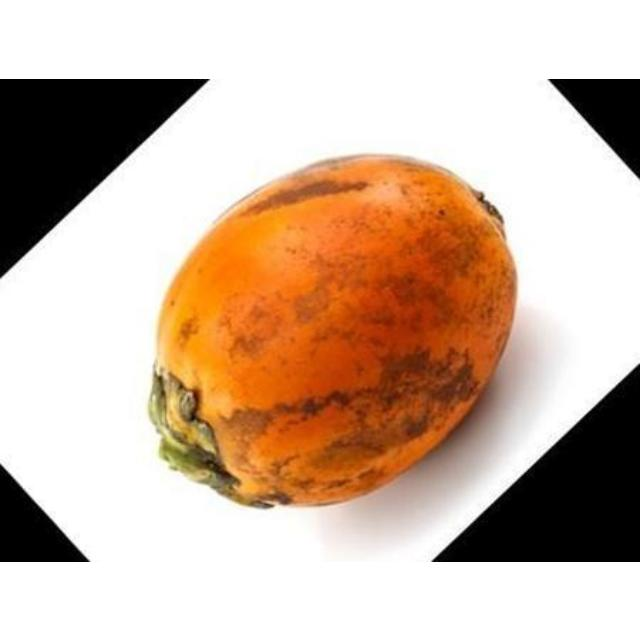good: (145, 153, 518, 509)
